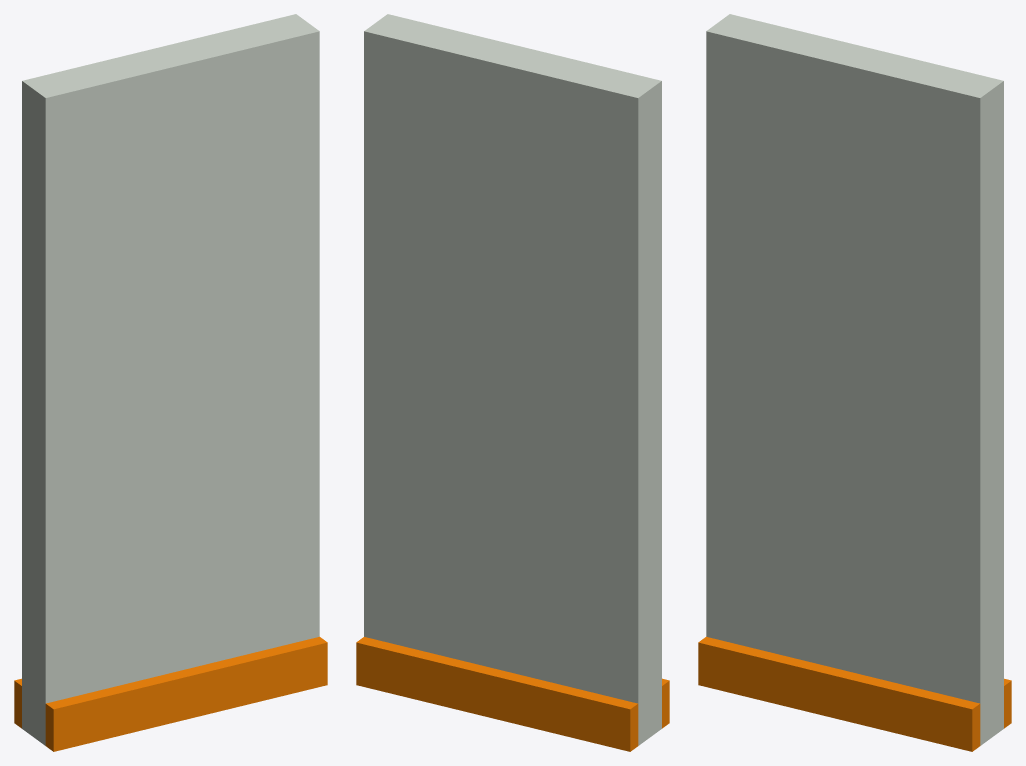
The model's file is GYM Main Tall Wall.fbx.
The picture shows the model from 3 angles, left to right: view 1: azimuth 30°, elevation 25°; view 2: azimuth 150°, elevation 25°; view 3: azimuth 330°, elevation 25°; orthographic projection.
Visible parts, largest first — view 1: Main Full Wall Tile Lv1; view 2: Main Full Wall Tile Lv1; view 3: Main Full Wall Tile Lv1.
Boxes of the visible parts, bbox=[...] form: Main Full Wall Tile Lv1: bbox=[14, 14, 327, 751]; Main Full Wall Tile Lv1: bbox=[356, 14, 669, 751]; Main Full Wall Tile Lv1: bbox=[698, 14, 1011, 751].
Size of the model in its own units: 200 by 452 by 49.86.
